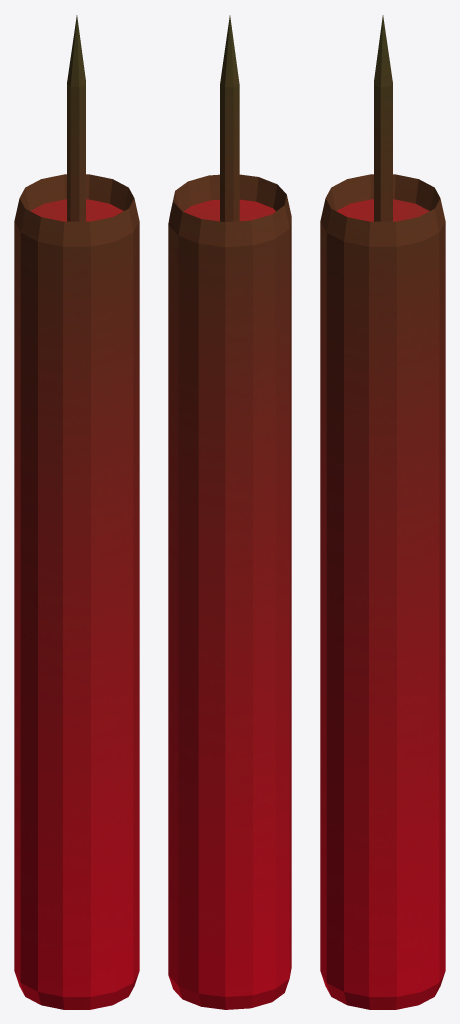
File: dynamite.glb
3 renders of one model, left to right at view 1: azimuth 90°, elevation 25°; view 2: azimuth 150°, elevation 25°; view 3: azimuth 270°, elevation 25°, orthographic.
Parts seen in each view (by area): view 1: dynamite; view 2: dynamite; view 3: dynamite.
Part boxes in pixels (x1,y1,x2,y2): dynamite: [14, 15, 139, 1009]; dynamite: [168, 15, 291, 1009]; dynamite: [320, 15, 445, 1009].
Size of the model in its own units: 0.1412 by 1.24 by 0.1448.
Materials: 1 (1 with a texture image).
